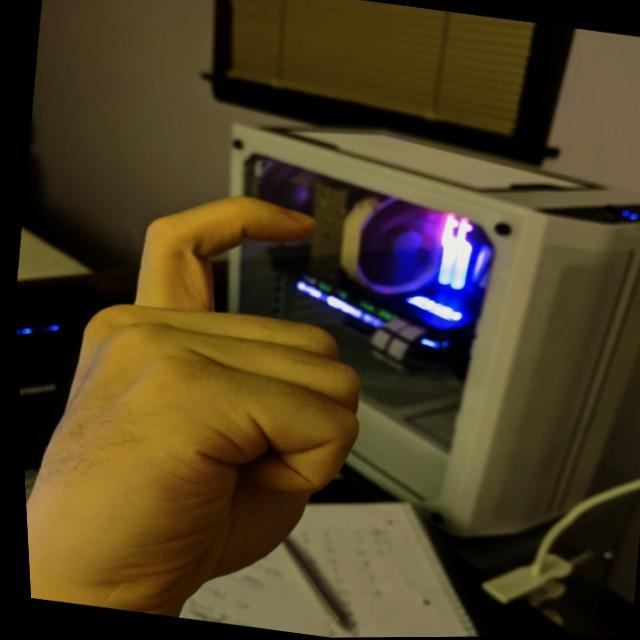X: (7, 159, 404, 639)
